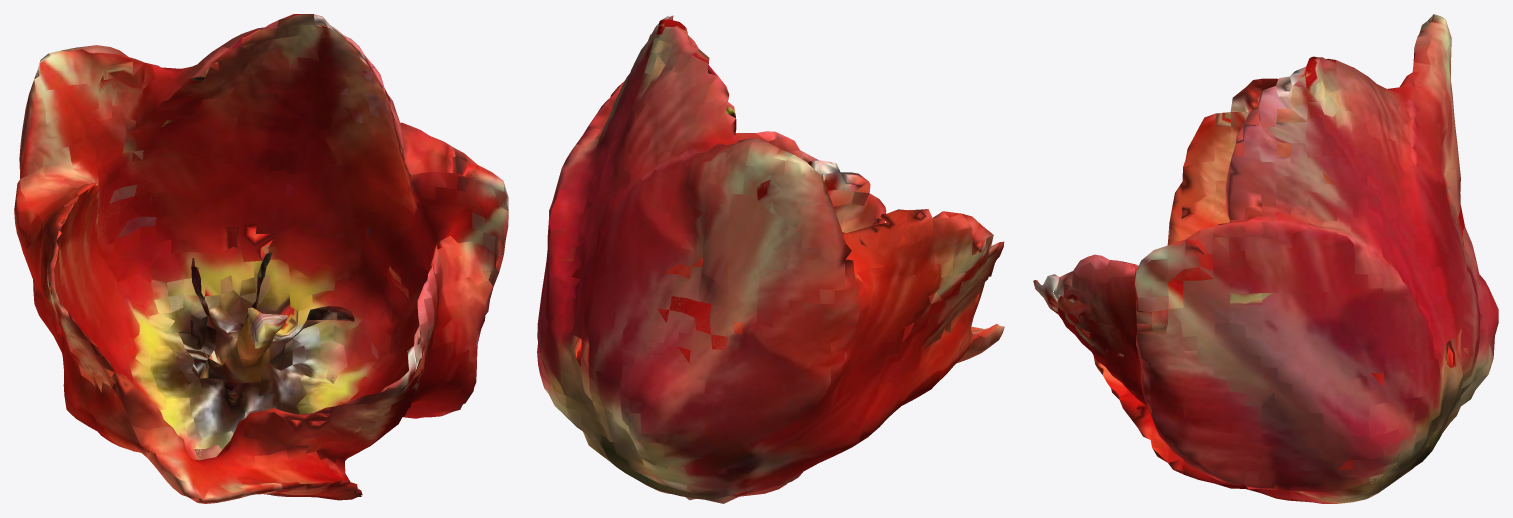
The picture shows the model from 3 angles, left to right: view 1: azimuth 30°, elevation 25°; view 2: azimuth 150°, elevation 25°; view 3: azimuth 270°, elevation 25°; orthographic projection. The views are drawn at different scales.
Visible parts, largest first — view 1: 540eb828; view 2: 540eb828; view 3: 540eb828.
Part boxes in pixels (box(x1,y1,x2,y2)): 540eb828: box(14, 14, 508, 503); 540eb828: box(537, 15, 1004, 503); 540eb828: box(1033, 14, 1498, 503).
Size of the model in its own units: 0.054 by 0.0581 by 0.0555.
1 material, 1 textured.
